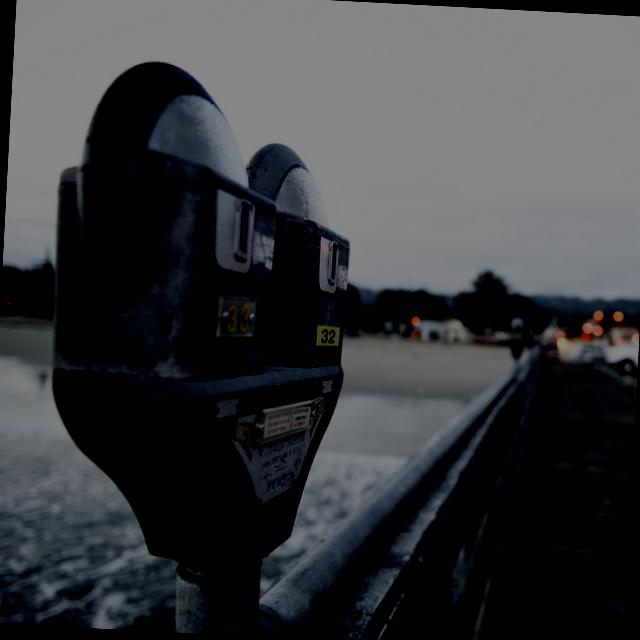Vehicle: (600, 338, 640, 372)
